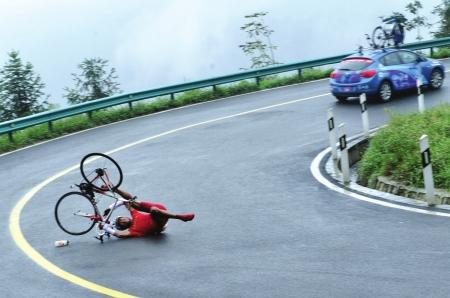down: (91, 194, 203, 248)
